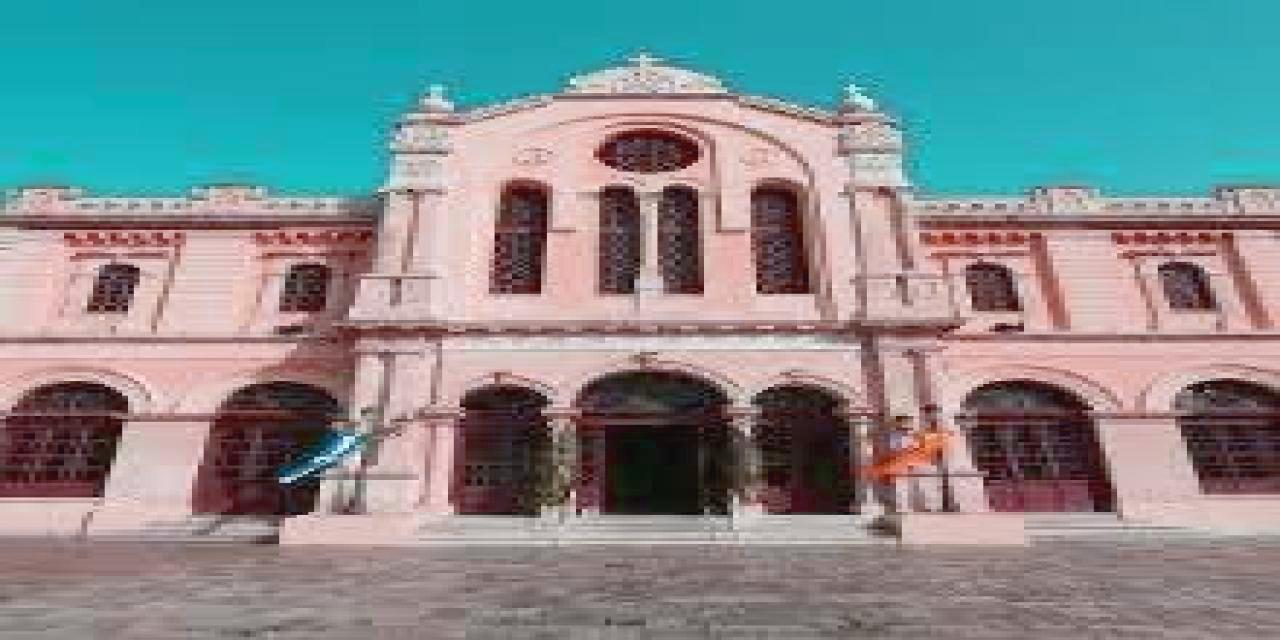Agios Minas: (2, 42, 1280, 541)
